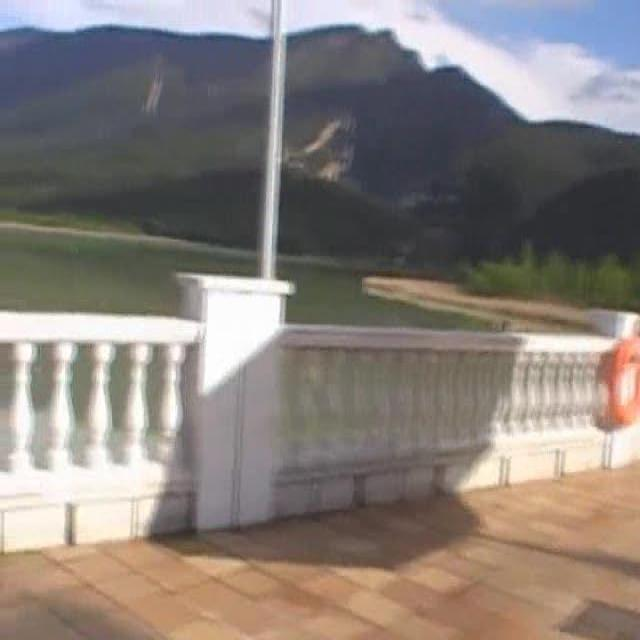other: (586, 306, 633, 450)
